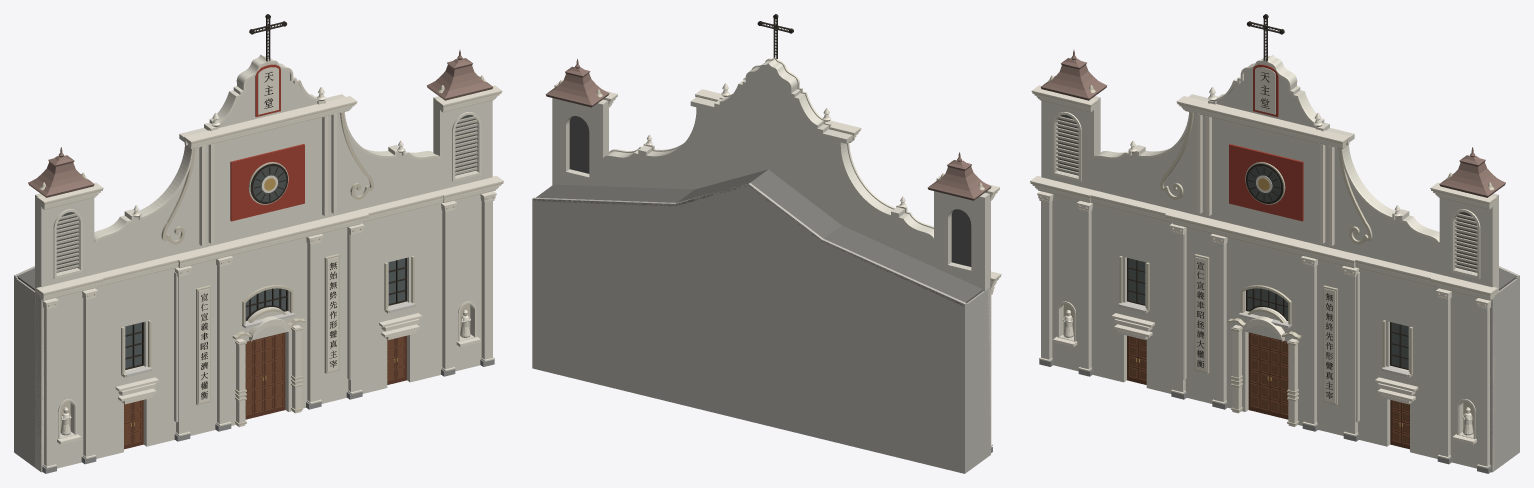
File: huangpu-dongjiadu-cathedral-raw.glb
3 renders of one model, left to right at view 1: azimuth 30°, elevation 25°; view 2: azimuth 150°, elevation 25°; view 3: azimuth 330°, elevation 25°, orthographic. The views are drawn at different scales.
Visible parts, largest first — view 1: 董家渡天主堂南入口立面; view 2: 董家渡天主堂南入口立面; view 3: 董家渡天主堂南入口立面.
Boxes of the visible parts, bbox=[...] form: 董家渡天主堂南入口立面: bbox=[14, 14, 503, 473]; 董家渡天主堂南入口立面: bbox=[532, 14, 1001, 473]; 董家渡天主堂南入口立面: bbox=[1030, 14, 1519, 473].
Size of the model in its own units: 31.23 by 26.17 by 4.07.
